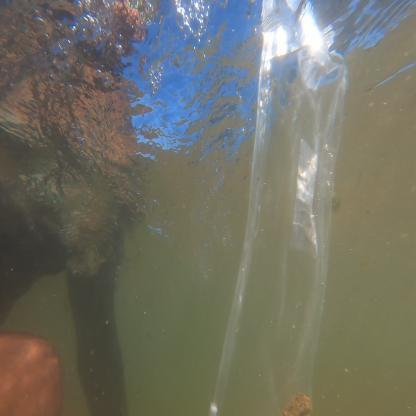Rác: (238, 51, 340, 416)
